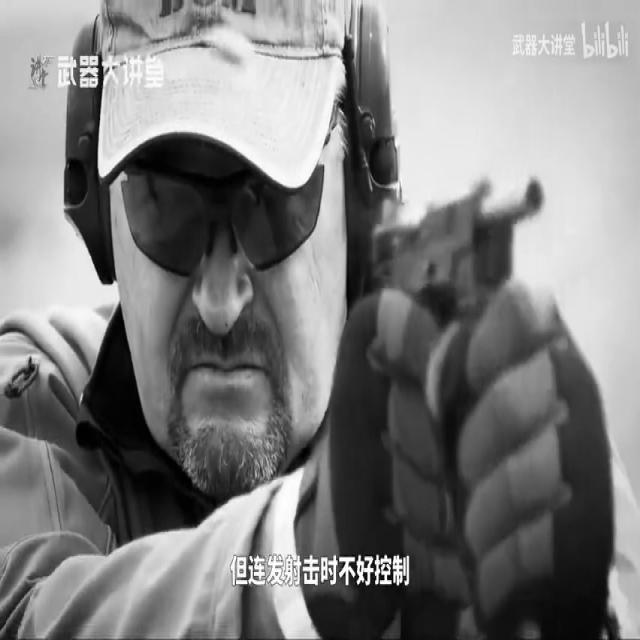Hand-Gun: (355, 115, 570, 485)
